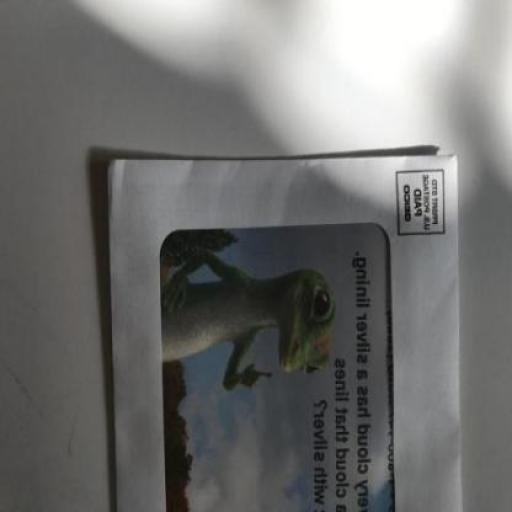paper: (110, 160, 460, 511)
